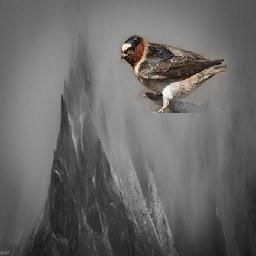Swallow: (119, 35, 227, 113)
